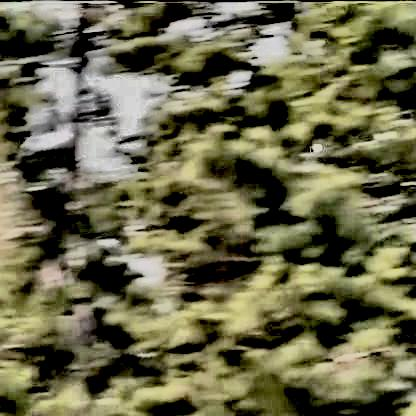golfball: (306, 137, 322, 153)
